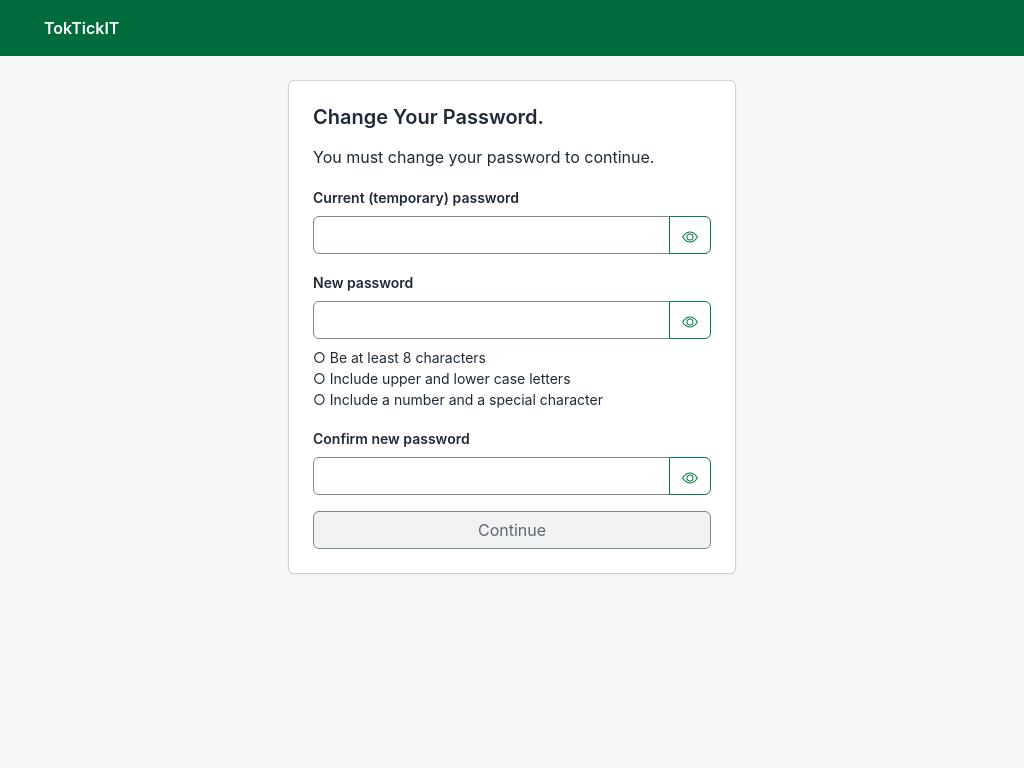
Scenario: ChangePasswordPage › shows a field error for an incorrect current password and does not navigate (AC-10)
The width and height of the screenshot is (1024, 768).
Type "WrongPass000!" into the password field labelled "Current (temporary) password" at (492, 235), box [313,216,670,254]
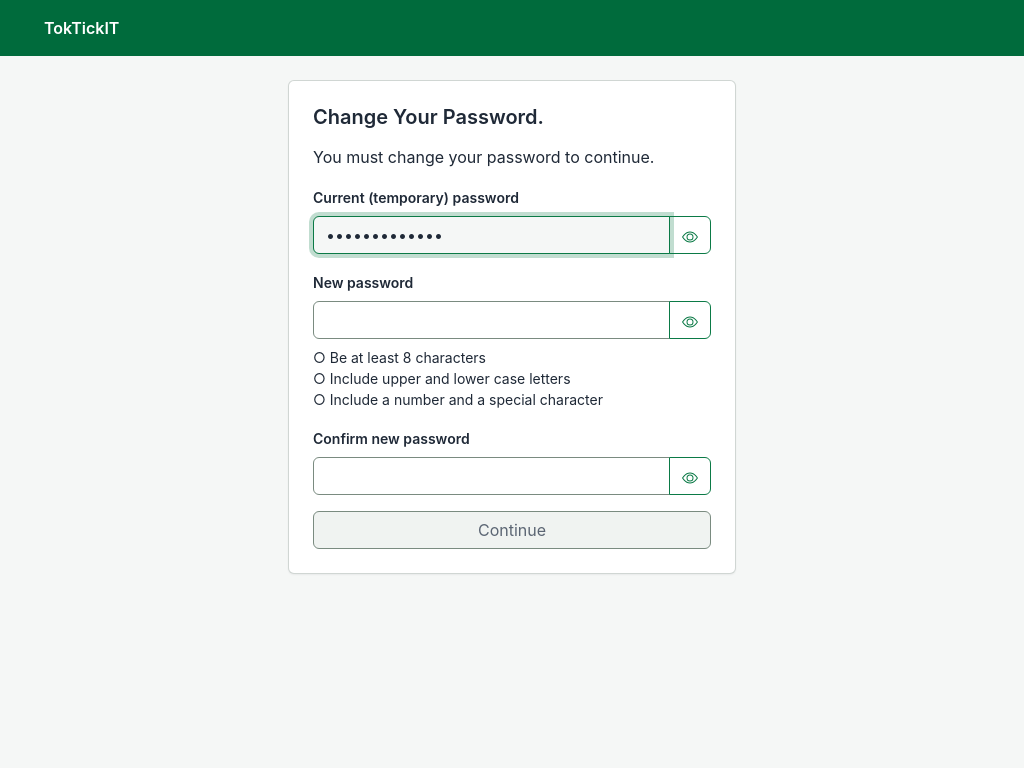
Type "NewStrong1!" into the password field labelled "New password" at (492, 320), box [313,301,670,339]
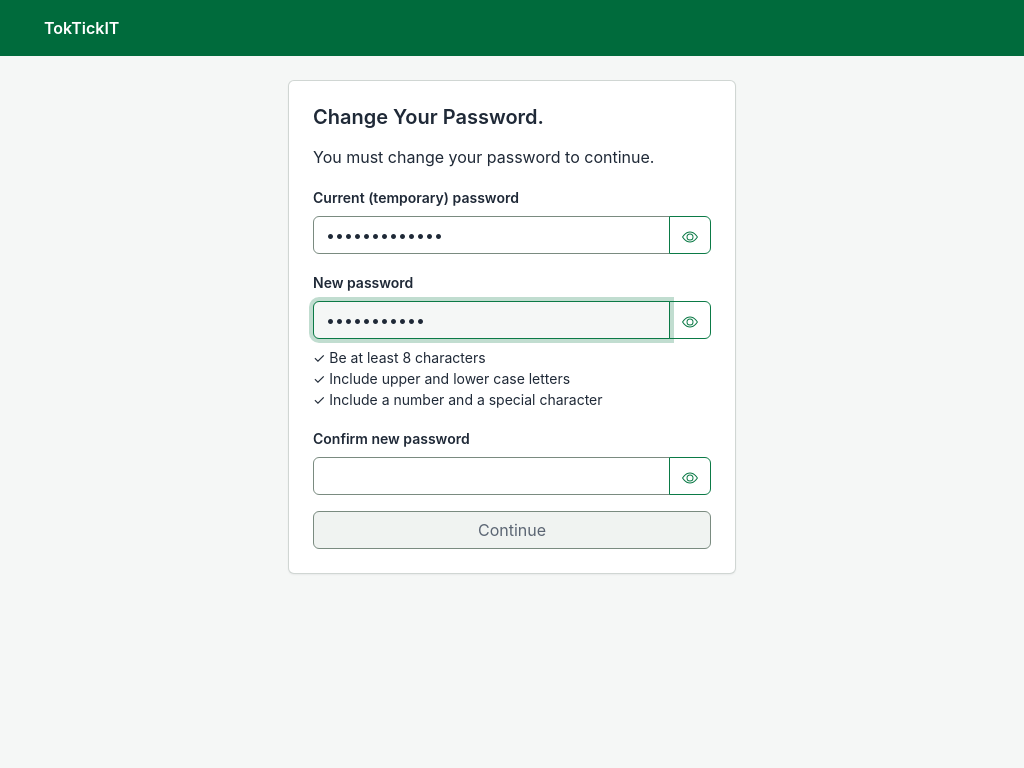
Type "NewStrong1!" into the password field labelled "Confirm new password" at (492, 476), box [313,457,670,495]
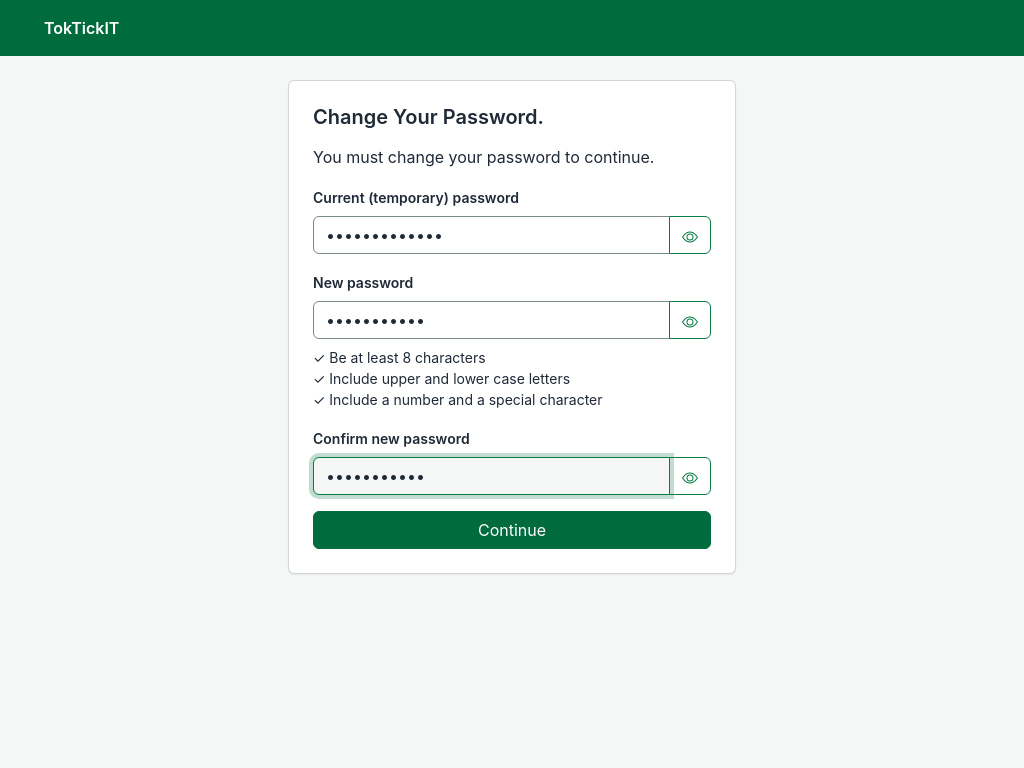
Click the button "Continue" at (512, 530), box [313,511,711,549]
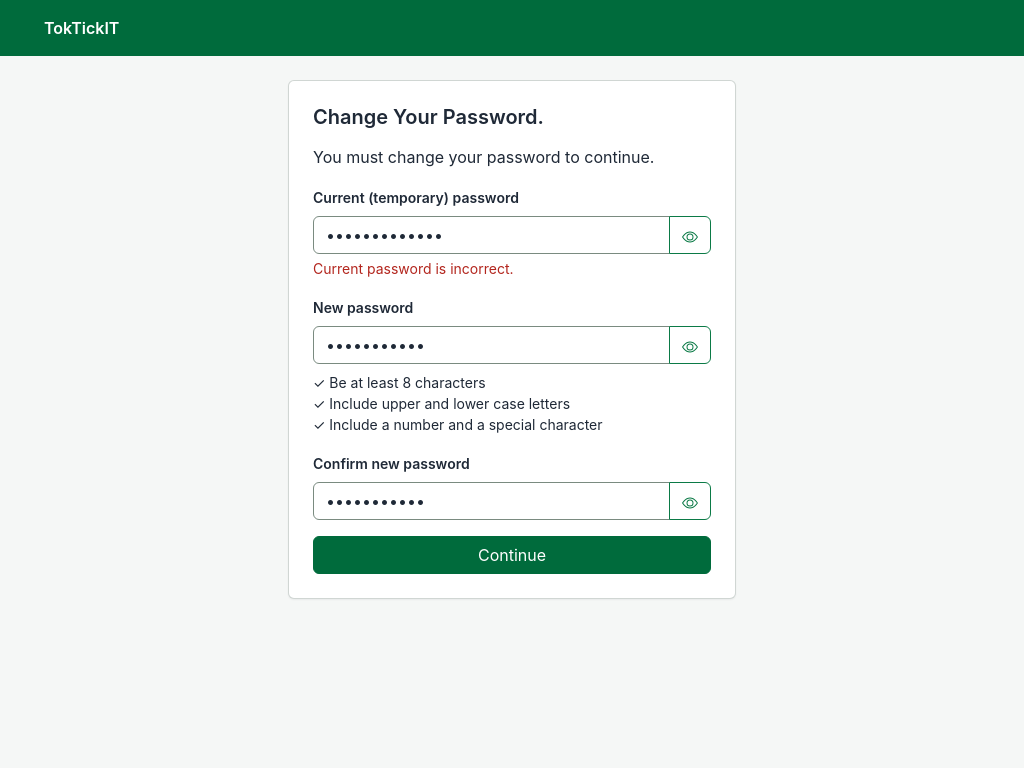
Expected: the heading "Change Your Password." is shown, [313,105,544,129]
Expected: the text "Current password is incorrect." is shown, [313,260,514,277]
